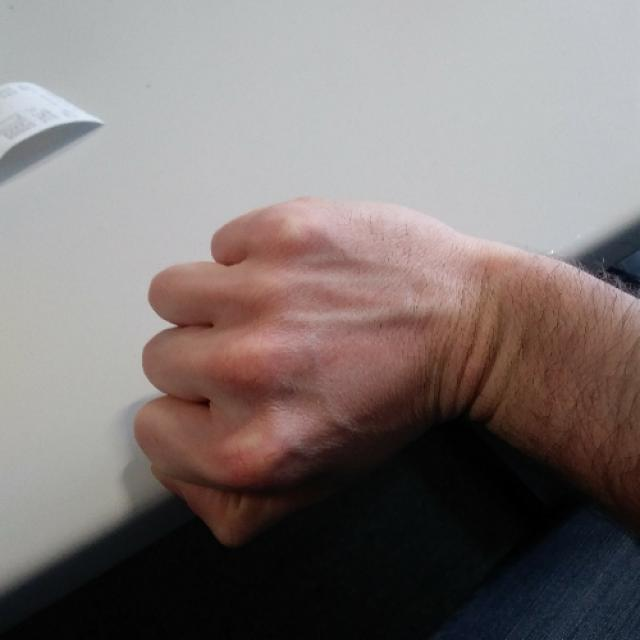rock: (137, 191, 468, 546)
